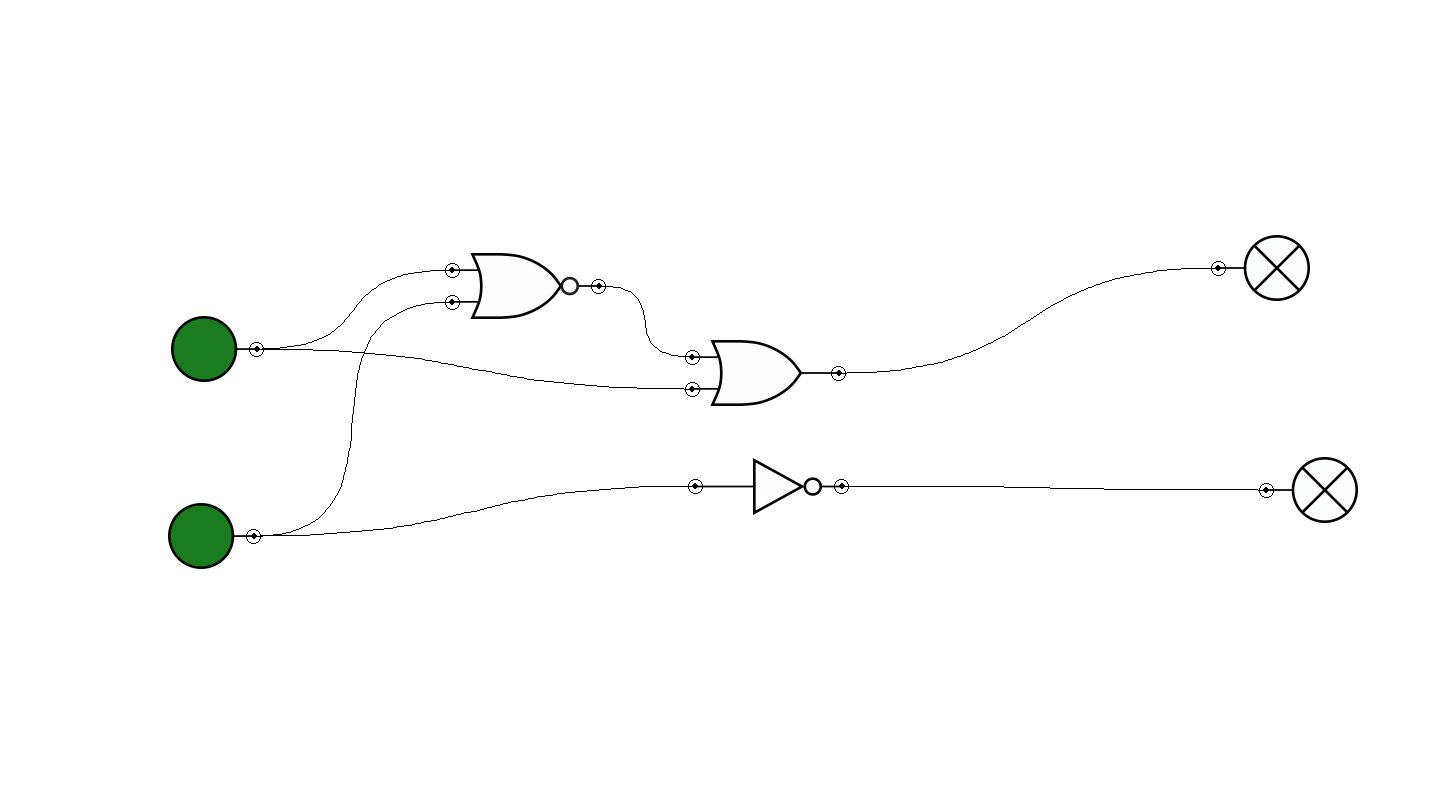bulb: (1211, 235, 1310, 301), (1259, 457, 1358, 523)
nor: (445, 253, 606, 319)
not: (688, 458, 849, 515)
or: (685, 340, 846, 406)
switch_True: (171, 316, 264, 382), (168, 503, 261, 569)
